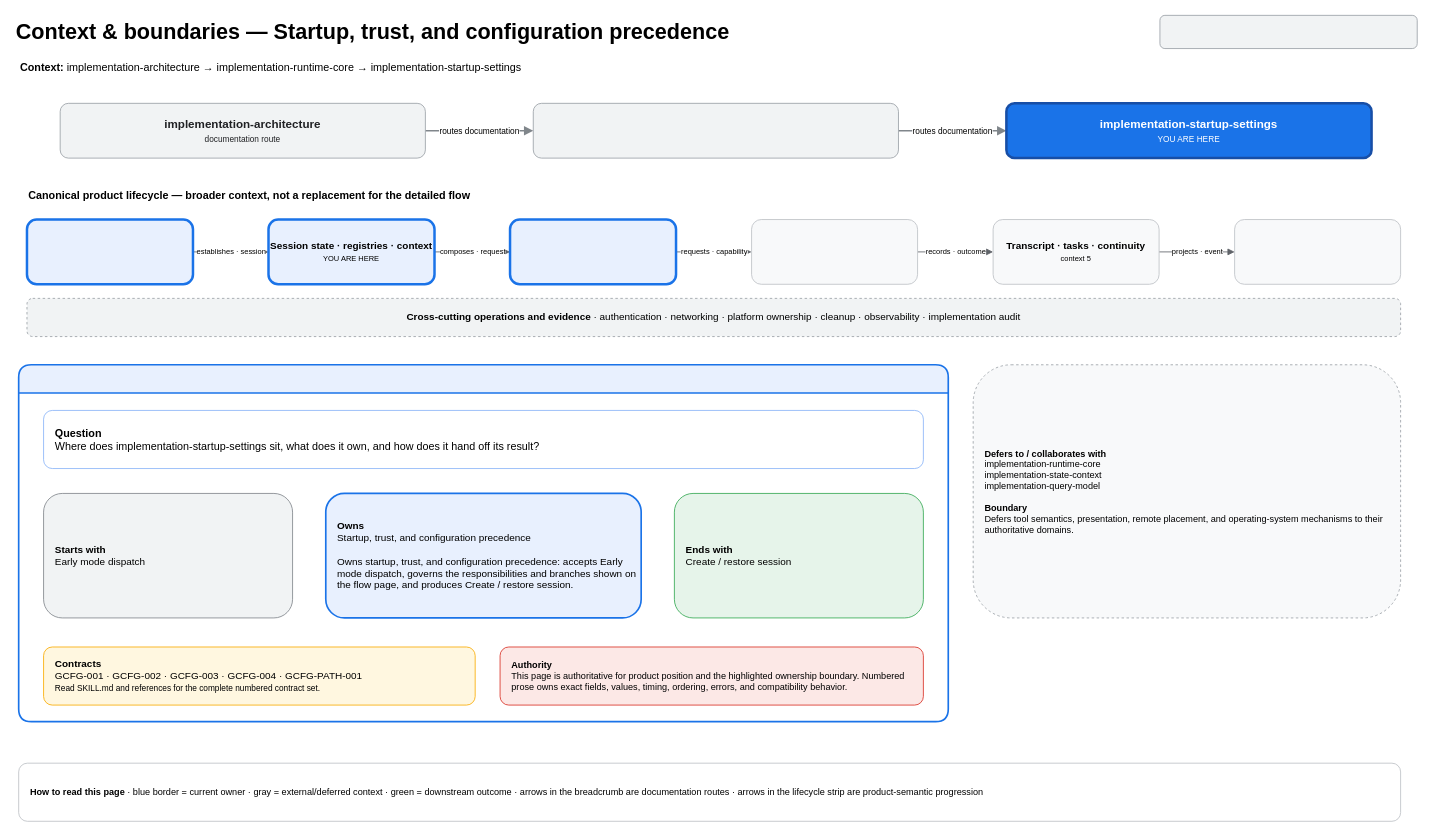
The diagram is 1432 pixels wide and 836 high, and some of its shapes have lost their labels. The shapes that lost their labels are listed below. From the top down, each one's box as (x1, y1, x2, y2) in pixels, then its label:
(1159, 15, 1417, 49): architecture overview · template 2.0-context-flow
(532, 103, 898, 158): implementation-runtime-core documentation route
(25, 218, 194, 285): Entrypoint · identity · policy YOU ARE HERE
(508, 218, 677, 285): Query engine · model stream YOU ARE HERE
(751, 219, 918, 284): Capability decision · execution context 4
(1234, 219, 1401, 284): Surface · remote projection context 6
(17, 364, 949, 722): CURRENT OWNERSHIP BOUNDARY
